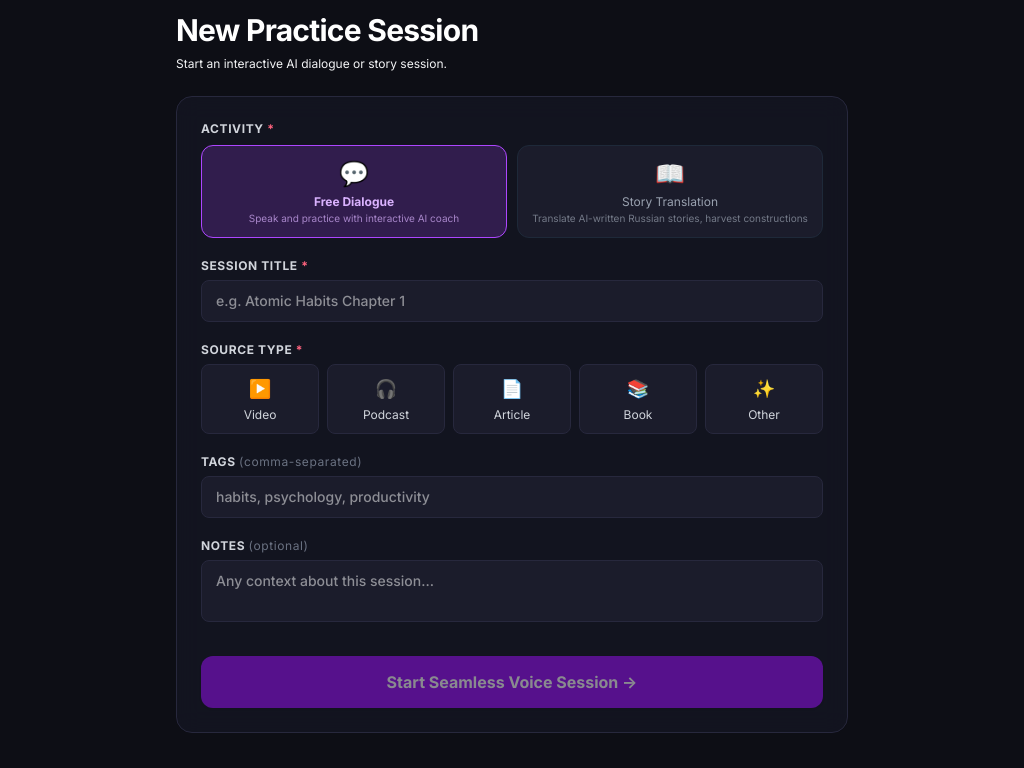
Session Wizard Component › submits Step 1 form and advances to Step 2 with SeamlessChatSession
The image size is (1024, 768).
Type "My Video Session" into the field with placeholder "e.g. Atomic Habits Chapter 1" at (512, 300), box left=201, top=280, right=823, bottom=322
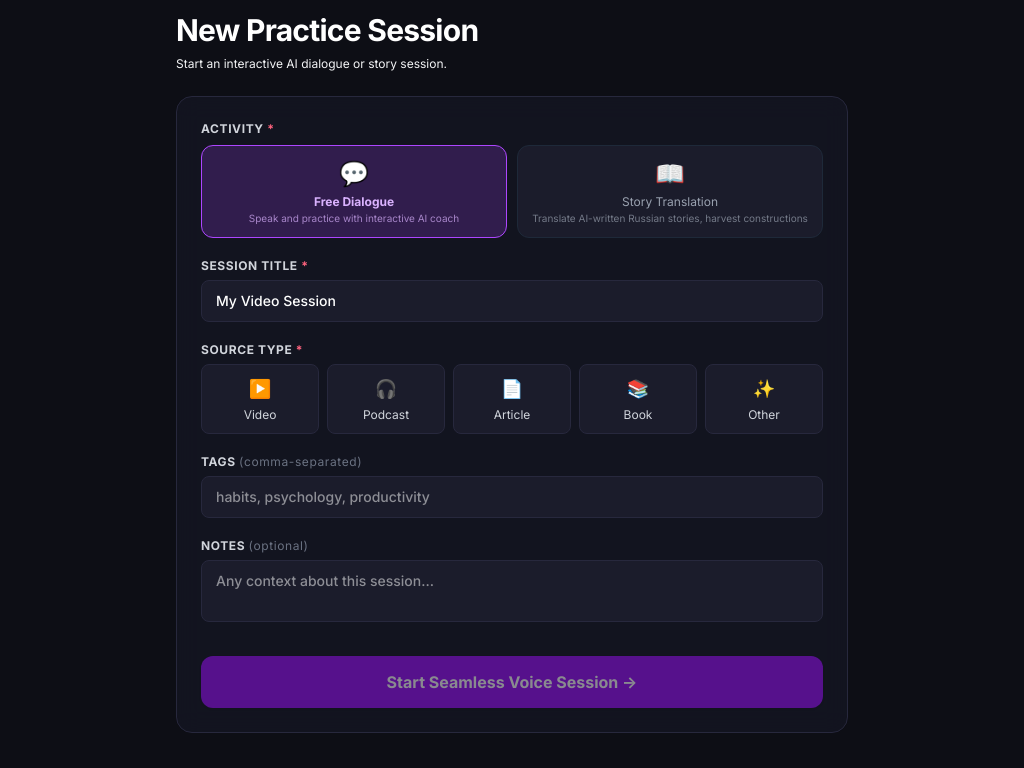
Click the text "Video" at (260, 414), box left=244, top=406, right=276, bottom=422
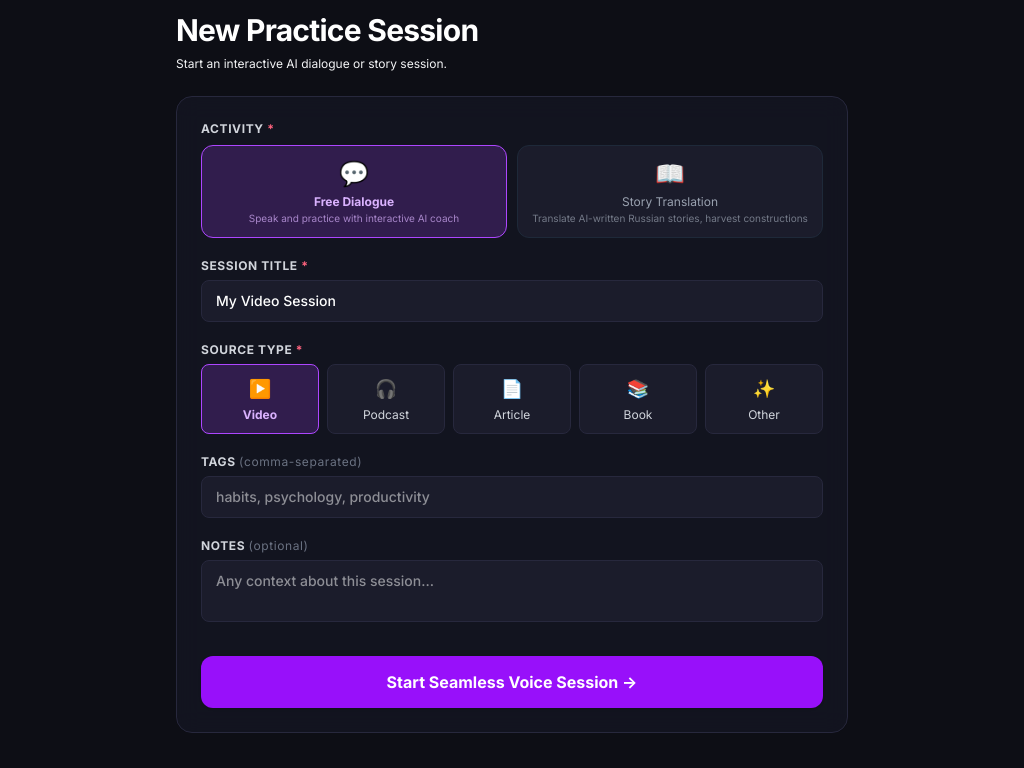
Click the button "Start Seamless Voice Session →" at (512, 682), box left=201, top=656, right=823, bottom=708
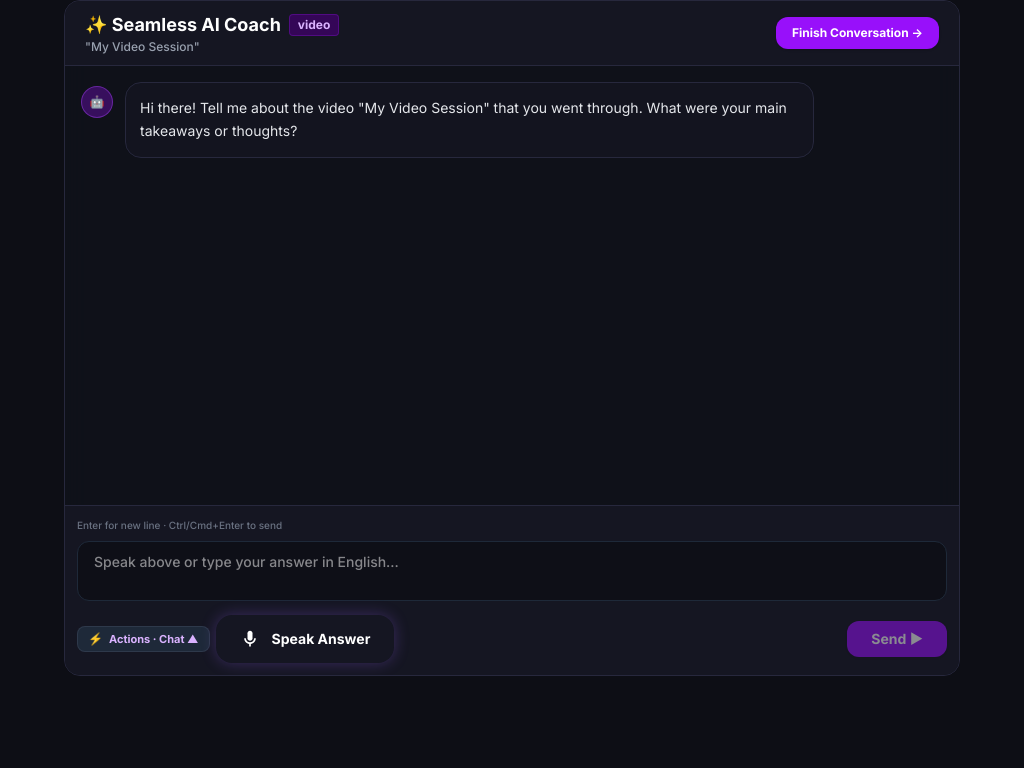
Result: the text "✨ Seamless AI Coach" is shown at left=85, top=11, right=281, bottom=39
Result: the text "\"My Video Session\"" is shown at left=85, top=39, right=200, bottom=54
